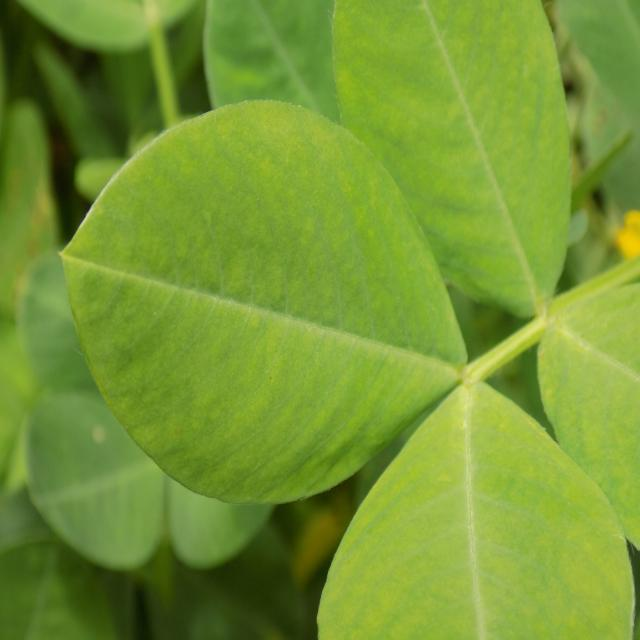Ground nut_healthy: (60, 103, 467, 506)
